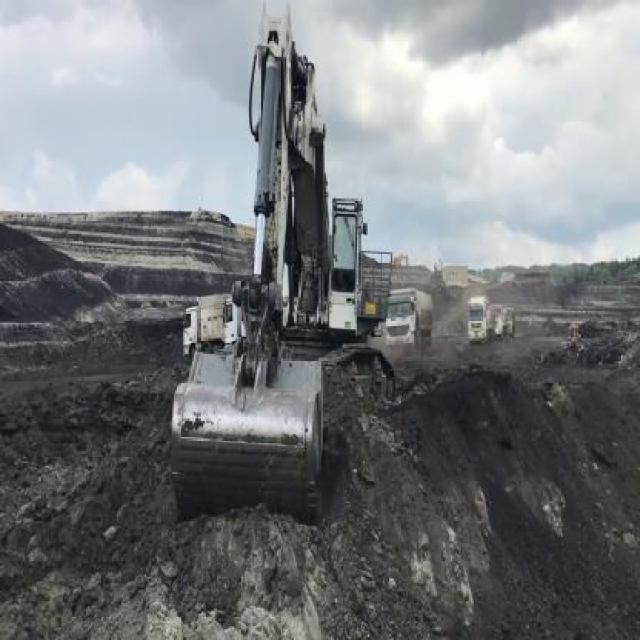Dump Truck: (179, 290, 230, 358), (382, 284, 432, 353), (468, 294, 490, 341)
Excavator: (170, 0, 394, 532)
